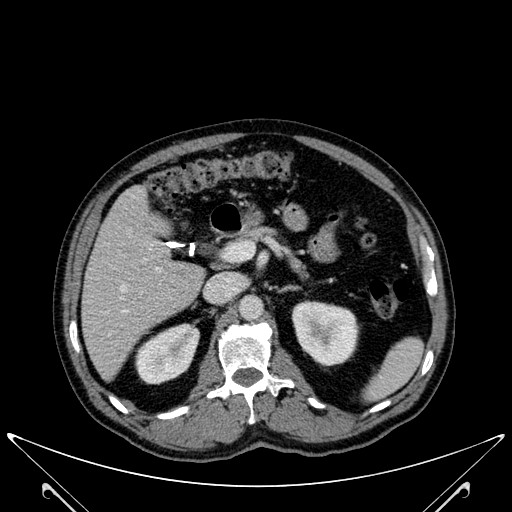clipe: (164, 240, 187, 250), (188, 241, 197, 258)
